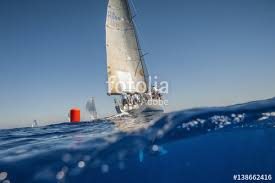buoy: (71, 108, 81, 123)
